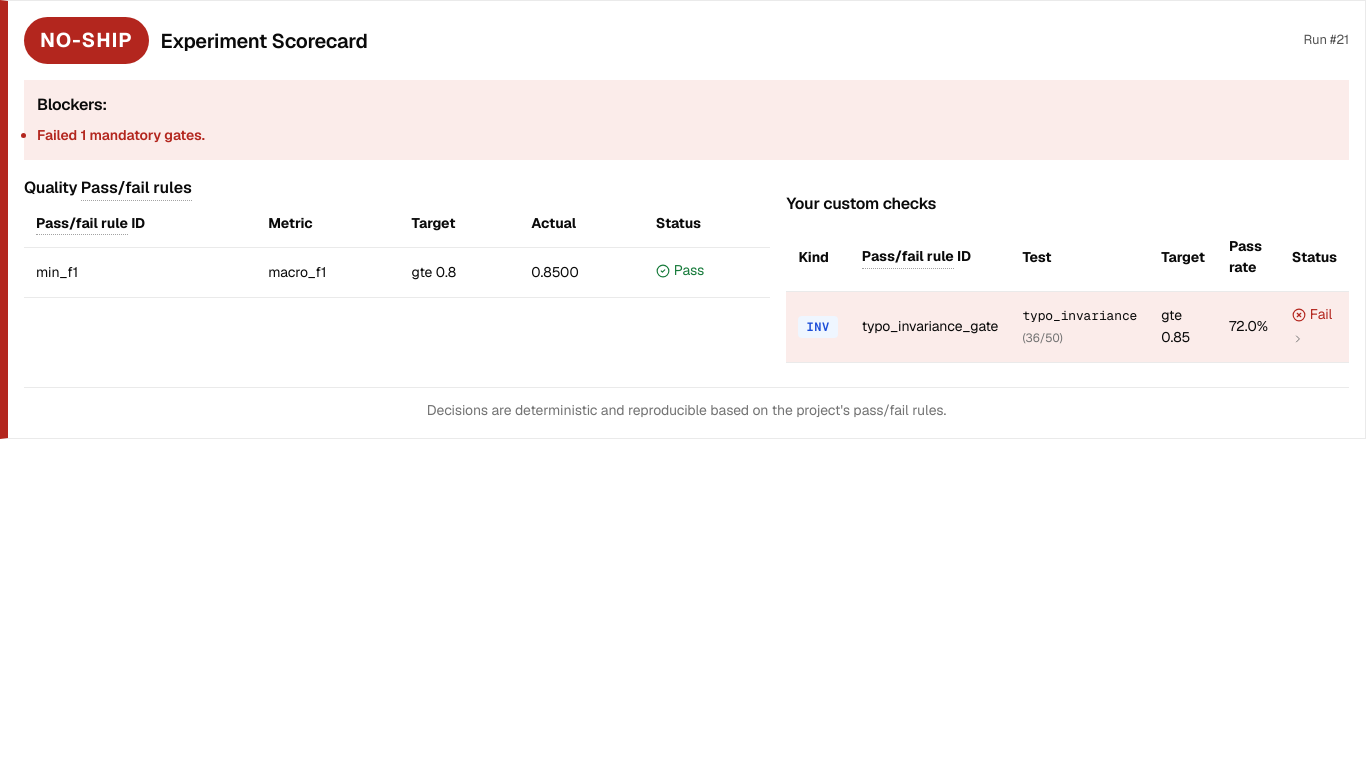
Test: ScorecardPanel › renders the dedicated Behavioral tests section with INV badge + drill-down
Check: the heading "Your custom checks" is shown, box [786,193,936,214]
Check: the text "min_f1" is shown, box [24,248,256,297]
What coordinates should you click on to do the following:
click the text "typo_invariance"
I would click on:
 (1068, 327)
Its box is [786,292,1349,363].
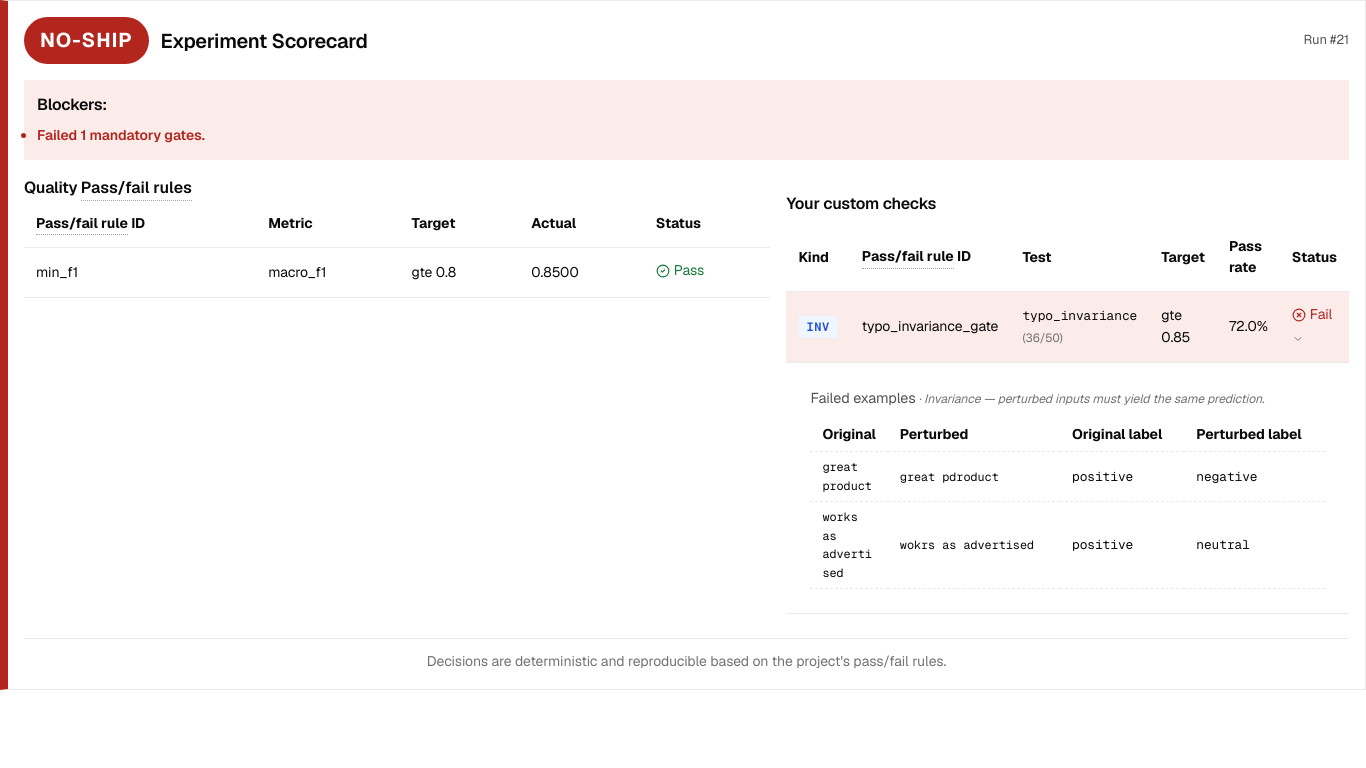
Check: the text "Failed examples" is shown, box [810,389,916,407]
Check: the text "great product" is shown, box [810,452,888,502]
Check: the text "great pdroduct" is shown, box [888,452,1060,502]
